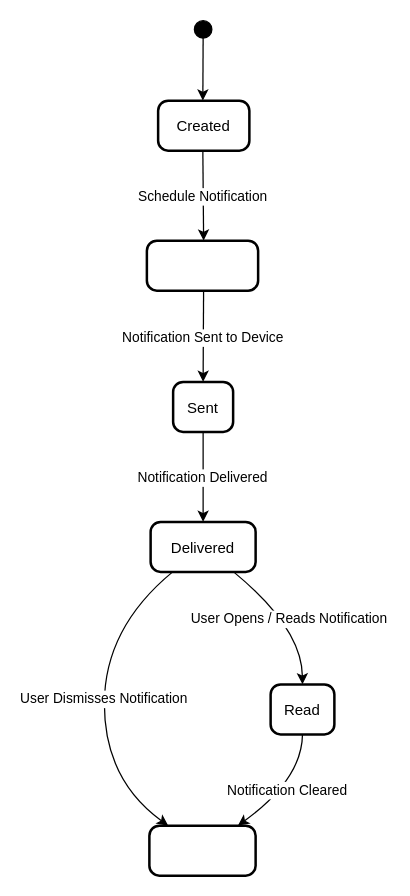
Image size: 410x896. Some labels were removed from this diagram. The shapes that lost their labels are listed below. From the top down, each one's centre as x and y in pixels, then its label:
At [202,265]: "Scheduled".
At [202,850]: "Dismissed".
